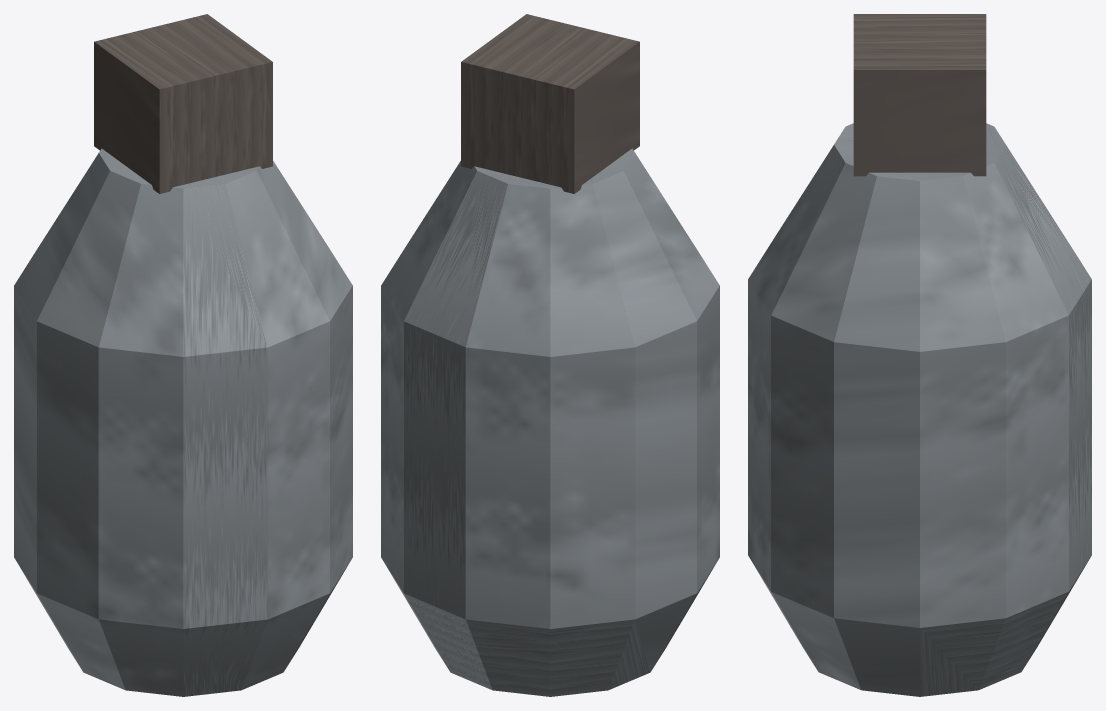
The model's file is potion.glb.
The picture shows the model from 3 angles, left to right: view 1: azimuth 30°, elevation 25°; view 2: azimuth 150°, elevation 25°; view 3: azimuth 270°, elevation 25°; orthographic projection.
Visible parts, largest first — view 1: pewter, wood; view 2: pewter, wood; view 3: pewter, wood.
Boxes of the visible parts, x1=… form: pewter: x1=14, y1=148, x2=352, y2=696; wood: x1=94, y1=14, x2=272, y2=193; pewter: x1=381, y1=148, x2=719, y2=696; wood: x1=461, y1=14, x2=639, y2=193; pewter: x1=748, y1=123, x2=1091, y2=696; wood: x1=853, y1=14, x2=986, y2=176.
Bounding box in the file's own units: 0.44 × 0.855 × 0.44.
3 materials, 3 textured.
